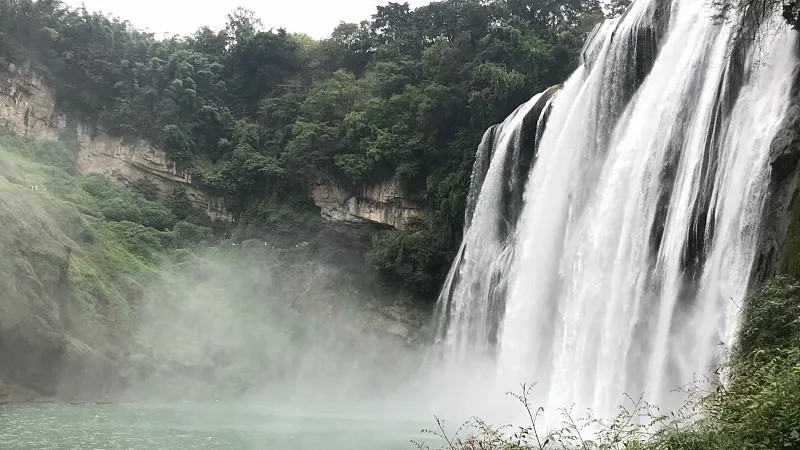Huangguoshu: (436, 1, 796, 416)
